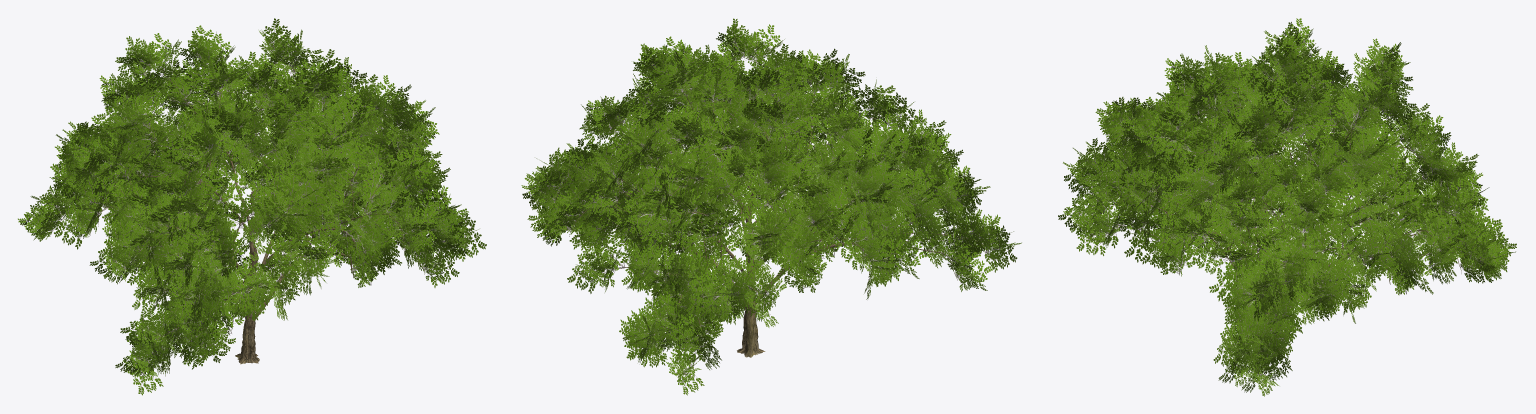
Rendered from tree_10.glb.
3 views of the same model, side by side, from view 1: azimuth 30°, elevation 25°; view 2: azimuth 150°, elevation 25°; view 3: azimuth 270°, elevation 25° (orthographic). The views are drawn at different scales.
Visible parts, largest first — view 1: Euro_Beech_7; view 2: Euro_Beech_7; view 3: Euro_Beech_7.
Boxes of the visible parts, x1,y1,x2,y2 form: Euro_Beech_7: [18, 18, 486, 395]; Euro_Beech_7: [521, 18, 1021, 395]; Euro_Beech_7: [1058, 18, 1516, 396].
Bounding box in the file's own units: 24.65 × 16.88 × 23.25.
2 materials, 2 textured.
